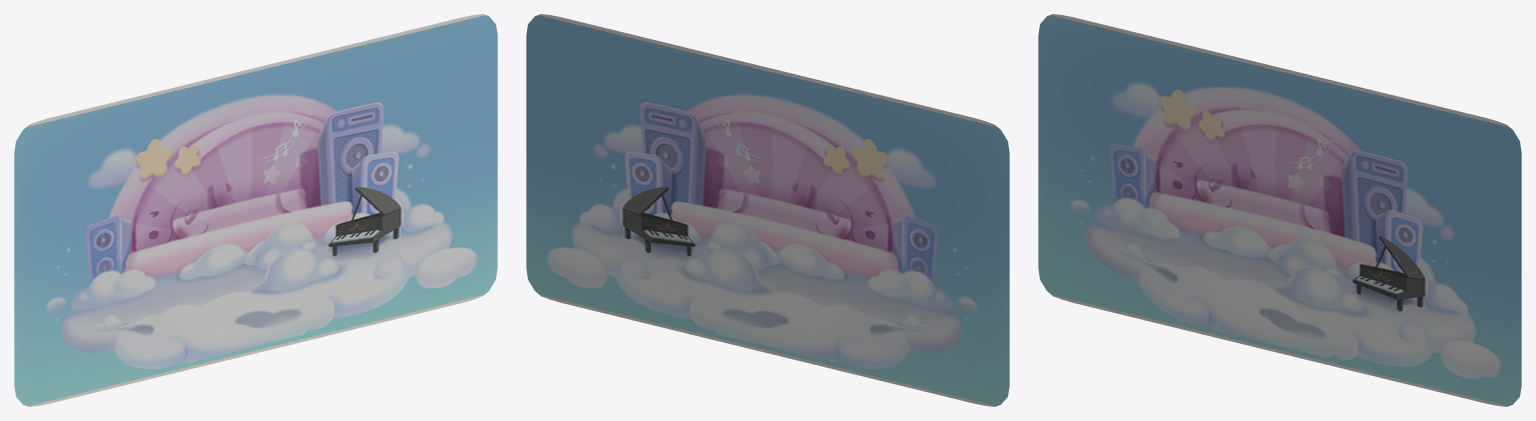
The model's file is shub44.FBX.
The picture shows the model from 3 angles, left to right: view 1: azimuth 30°, elevation 25°; view 2: azimuth 150°, elevation 25°; view 3: azimuth 330°, elevation 25°; orthographic projection.
Parts seen in each view (by area): view 1: shub4; view 2: shub4; view 3: shub4.
Part boxes in pixels (x1,y1,x2,y2): shub4: [14, 14, 497, 406]; shub4: [526, 14, 1009, 406]; shub4: [1038, 14, 1521, 406].
Bounding box in the file's own units: 998 × 563 × 0.00145.
